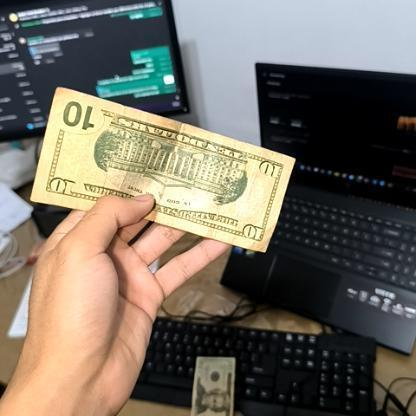ten-back: (29, 83, 296, 261)
twenty-front: (184, 355, 236, 416)
